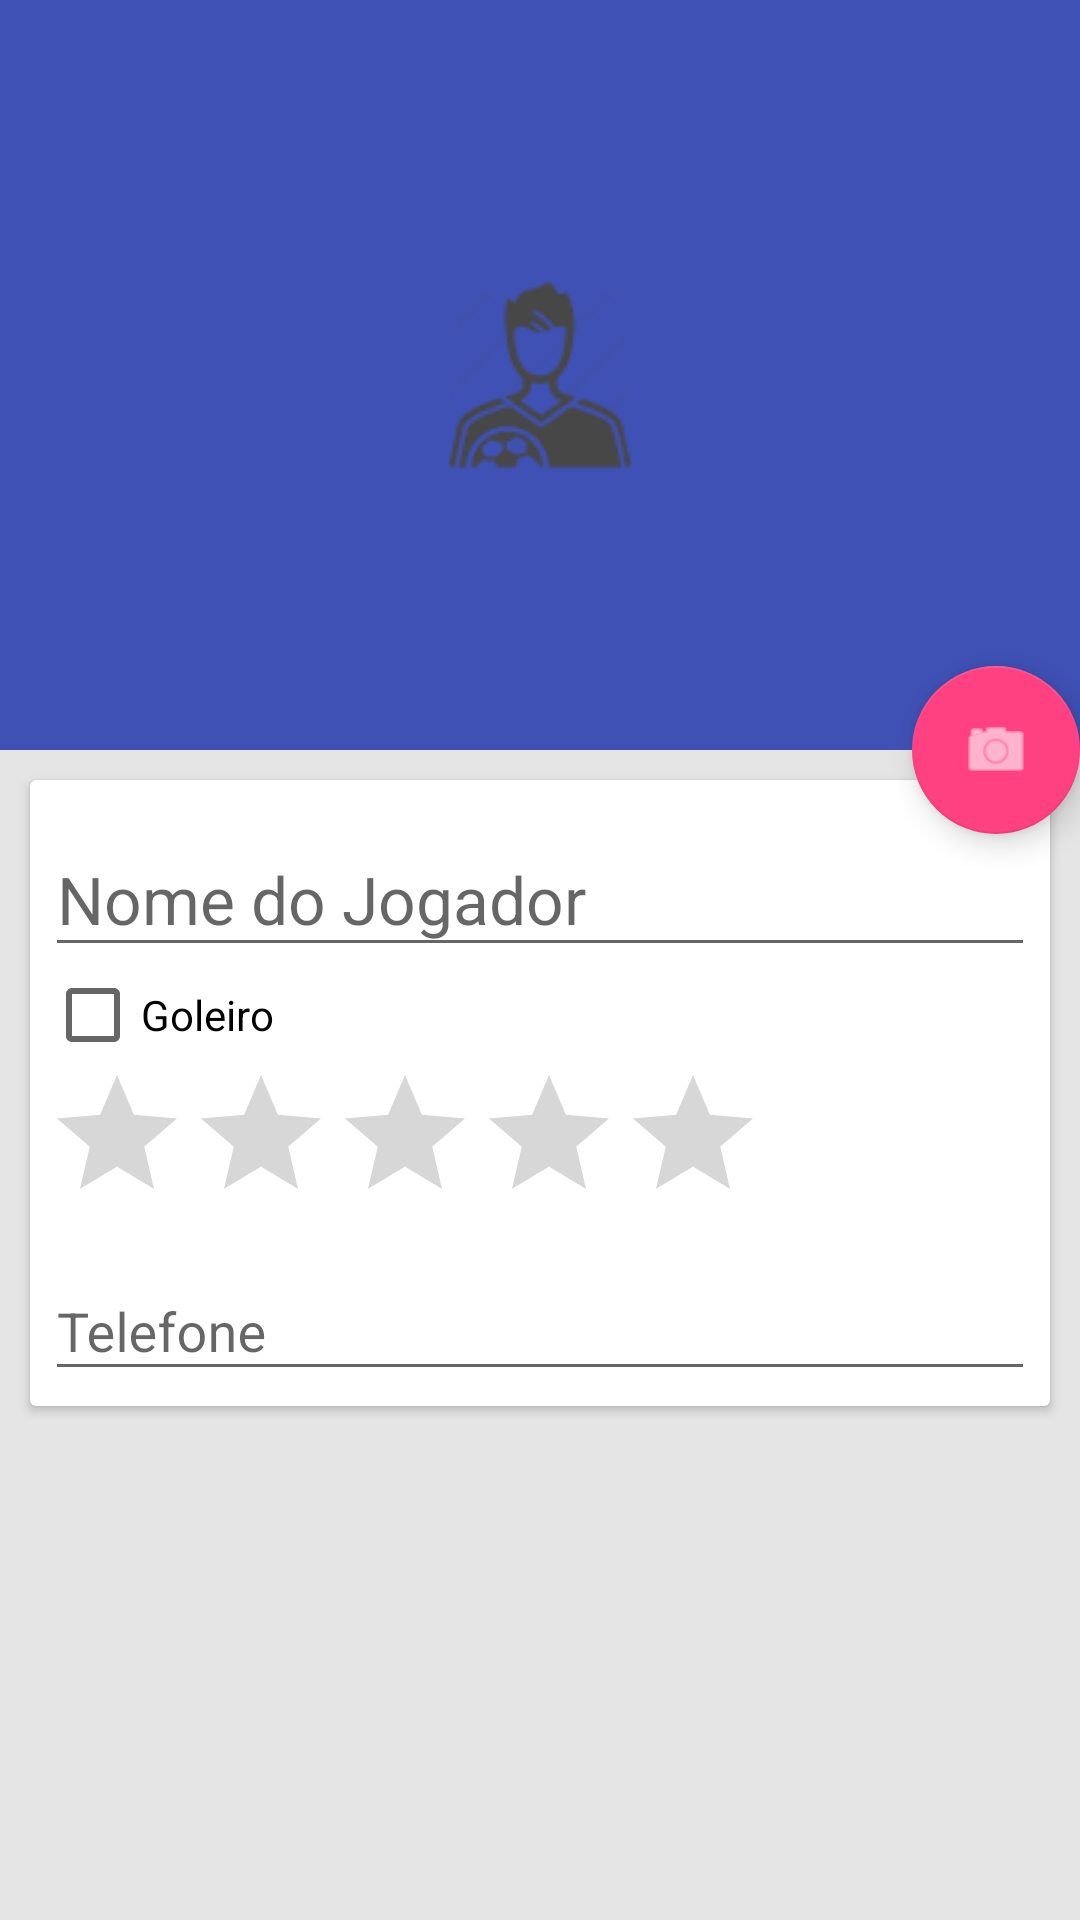

Where to tap for icons on this 1080w x 1920h app screen, as (x=x, y=y):
camera: (x=996, y=750)
